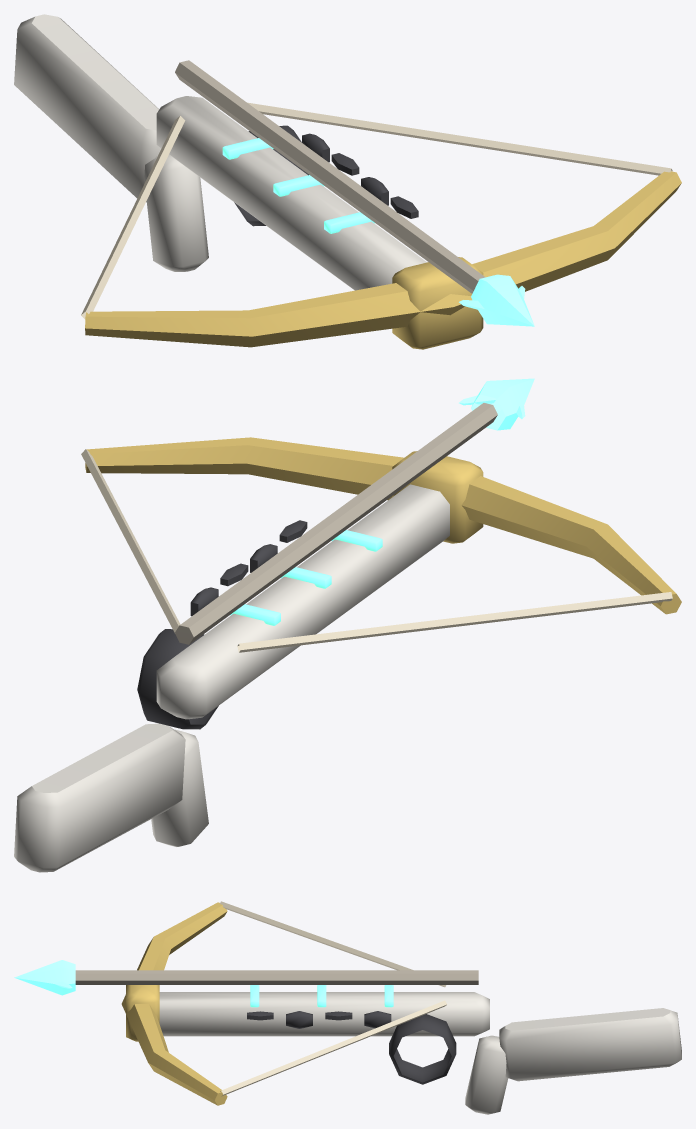
Rendered from harpoon-5.glb.
3 views of the same model, one above another, from view 1: azimuth 30°, elevation 25°; view 2: azimuth 150°, elevation 25°; view 3: azimuth 270°, elevation 25° (orthographic). The views are drawn at different scales.
Parts seen in each view (by area): view 1: harpoon-5; view 2: harpoon-5; view 3: harpoon-5.
Boxes of the visible parts, x1,y1,x2,y2 form: harpoon-5: (14,14,681,349); harpoon-5: (14,378,681,872); harpoon-5: (14,901,681,1114).
Size of the model in its own units: 0.4079 by 0.1463 by 0.5965.
